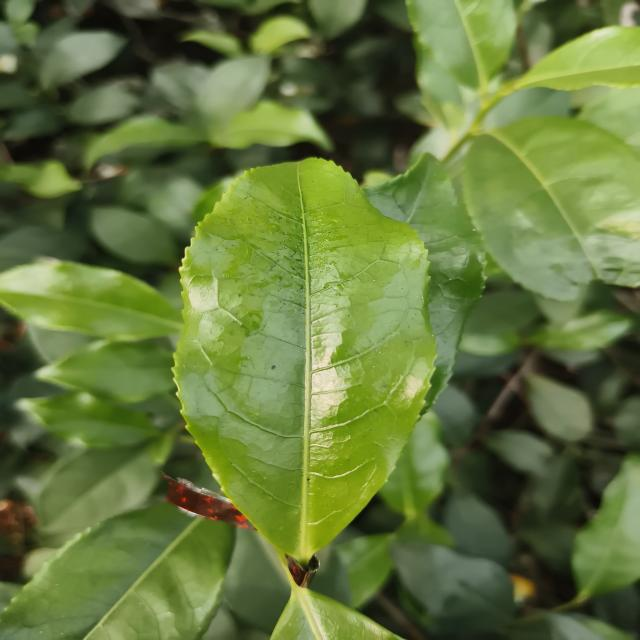Leaf: (174, 159, 436, 564), (463, 117, 640, 301), (0, 503, 236, 640), (365, 153, 485, 408), (0, 259, 182, 340), (34, 444, 159, 546), (391, 542, 514, 636), (406, 0, 516, 93), (572, 454, 640, 599), (36, 341, 175, 403), (514, 26, 640, 90), (19, 393, 159, 447), (380, 411, 449, 519), (83, 116, 204, 169), (196, 56, 271, 141), (218, 101, 333, 150), (444, 491, 511, 566), (91, 206, 177, 263), (40, 31, 126, 88), (526, 374, 594, 441), (528, 310, 633, 351), (337, 533, 394, 608), (484, 429, 553, 476), (0, 160, 81, 198), (67, 83, 139, 124), (250, 15, 311, 53)
